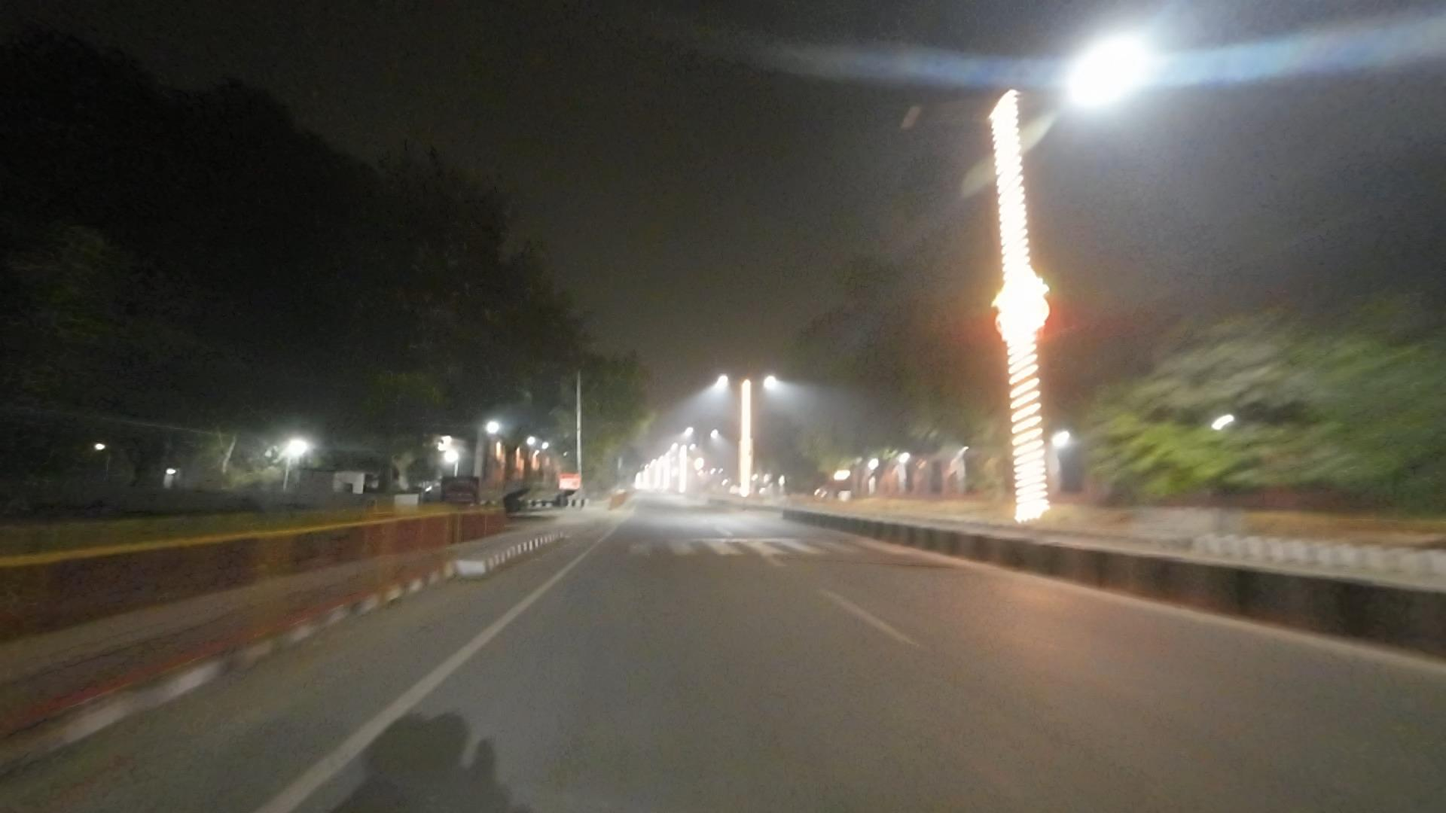streetlight: (899, 96, 973, 134)
